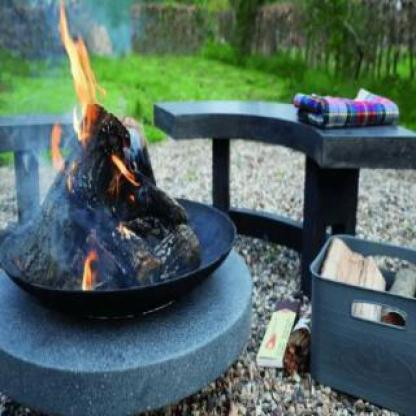Fire: (54, 0, 103, 135), (75, 237, 103, 300)
Smoke: (5, 129, 78, 281)
